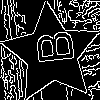B: (26, 28, 75, 66)
